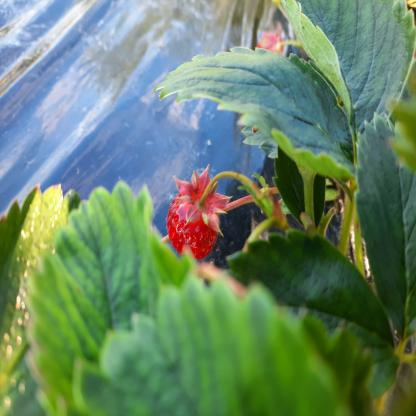ripe: (164, 190, 218, 258)
